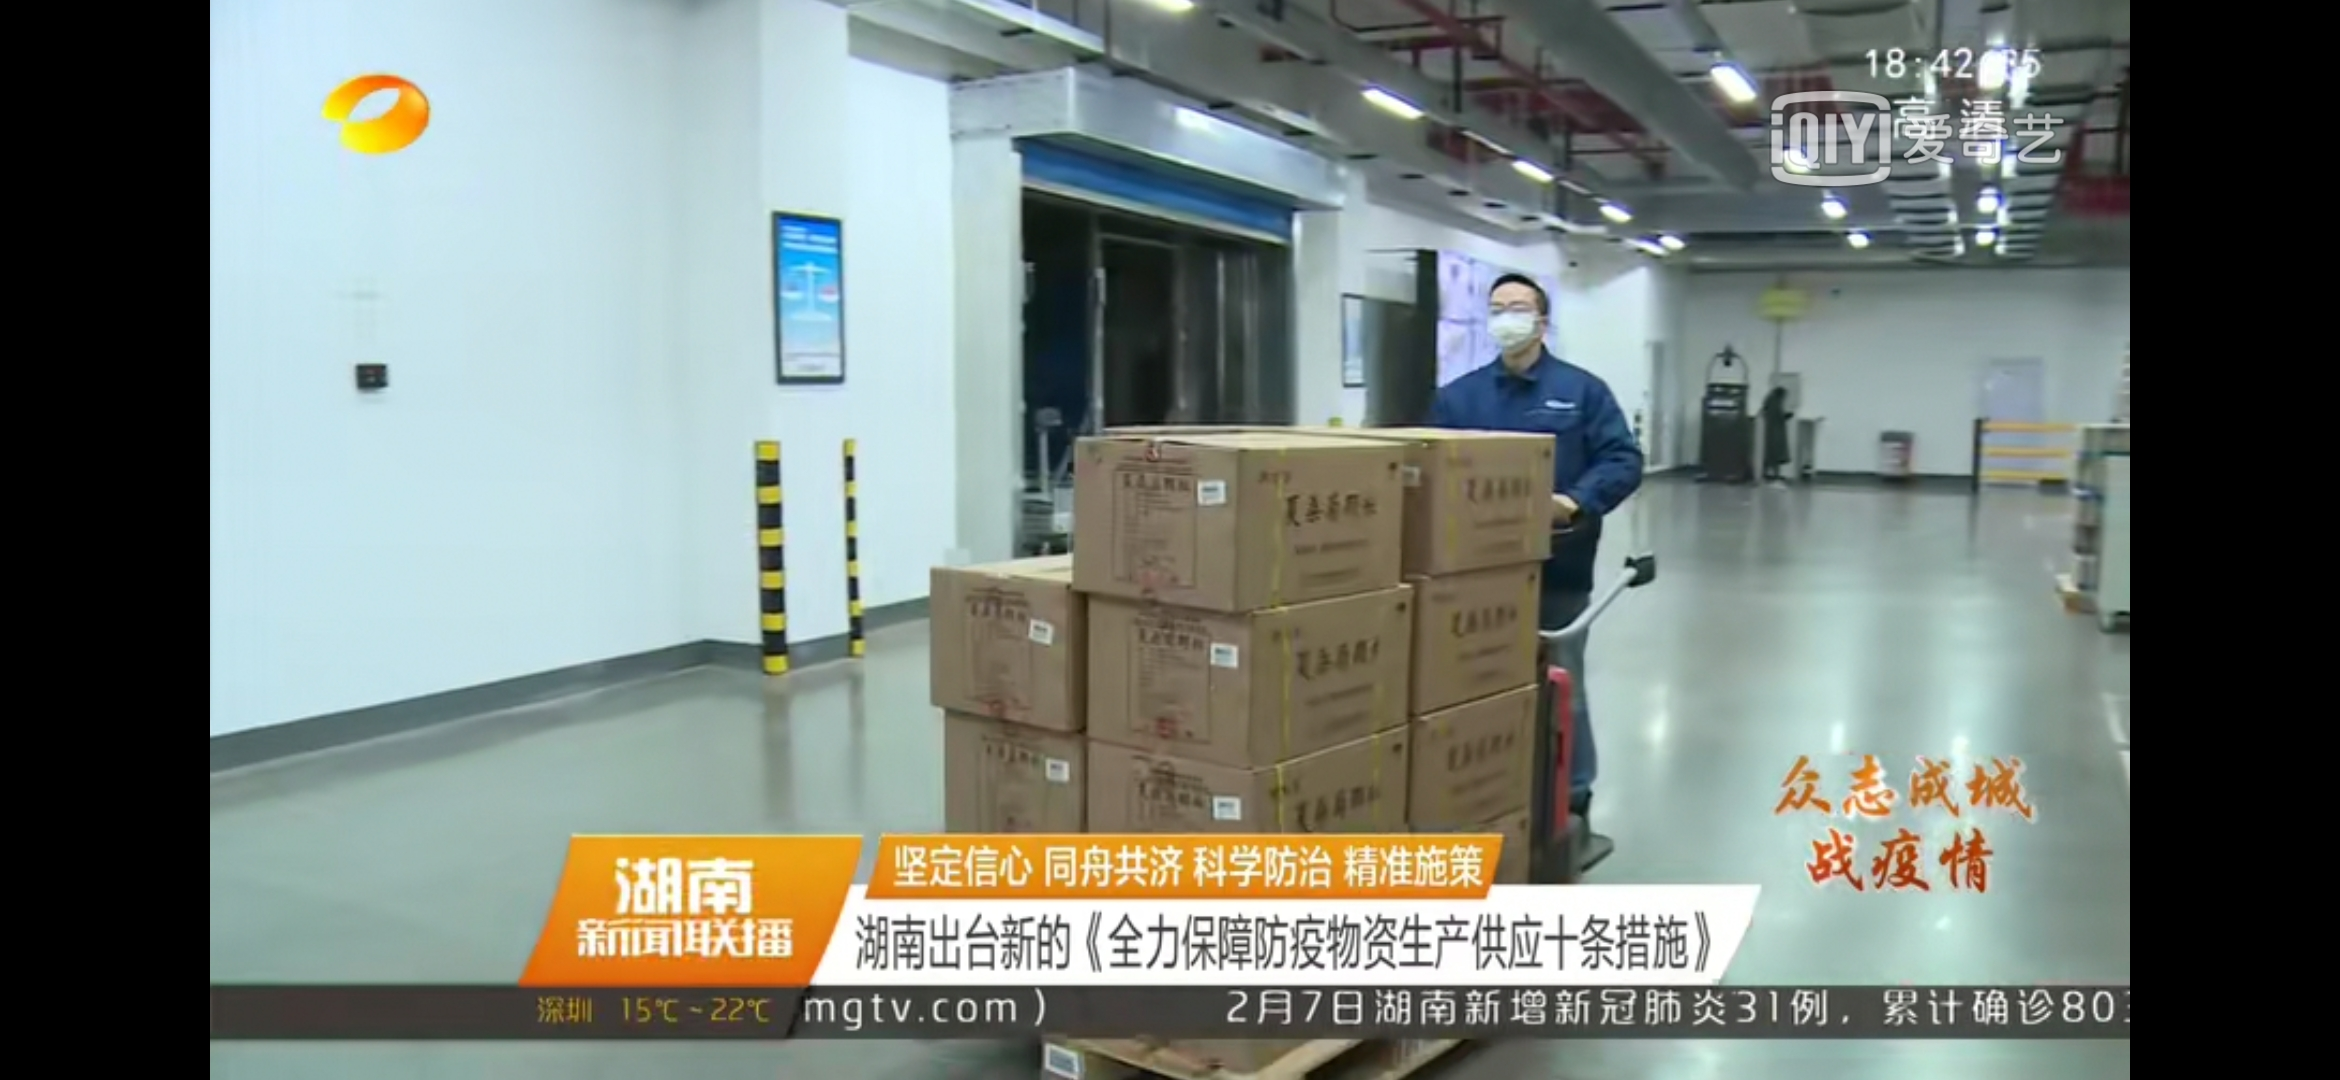correctlyWear: (1483, 289, 1545, 360)
